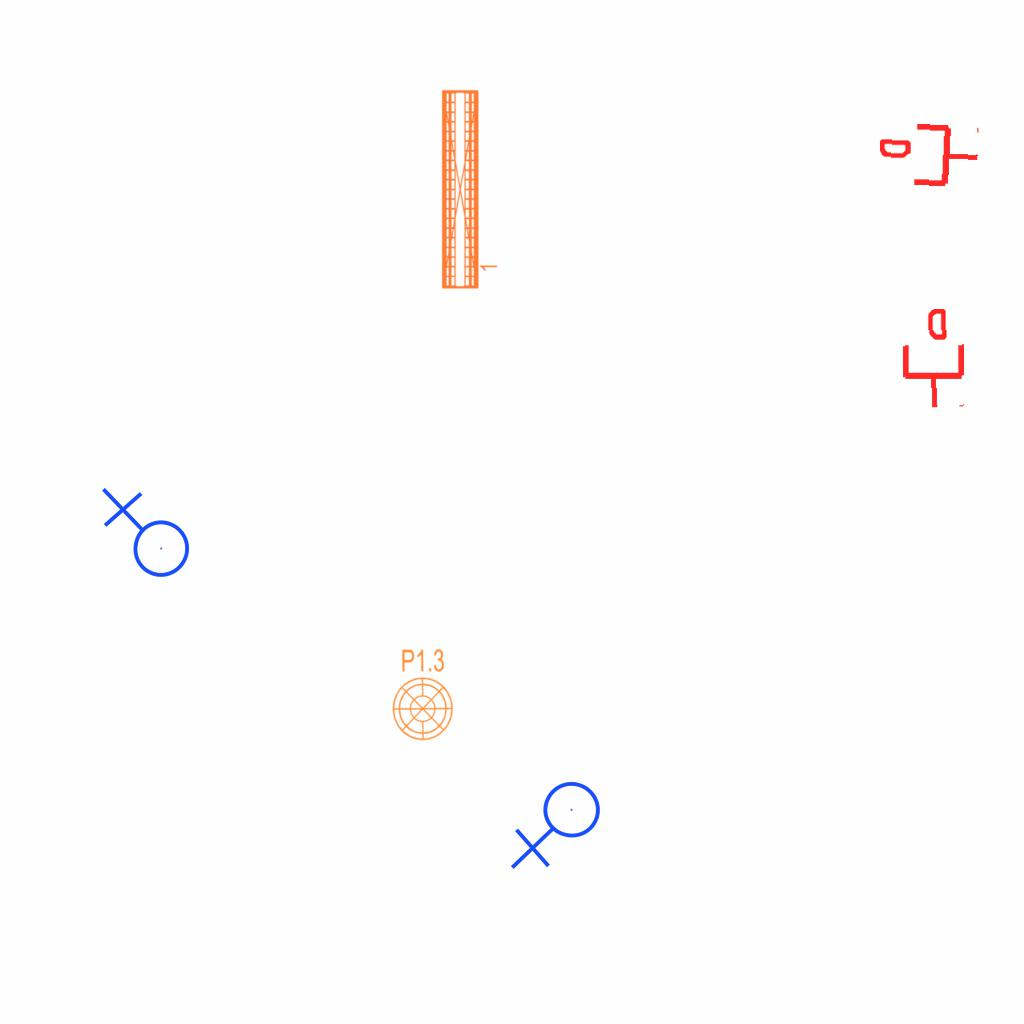Aufbaurundleuchte_LED_Treppenhaus: (391, 640, 460, 742)
Buero_Pendelleuchten_LED: (437, 86, 502, 292)
Datenanschluss_einfach: (877, 117, 982, 193), (898, 308, 969, 410)
Elektroanschluss_allgemein_230V_Geraeteanschlussdose_230V: (510, 780, 609, 874), (97, 487, 191, 586)
